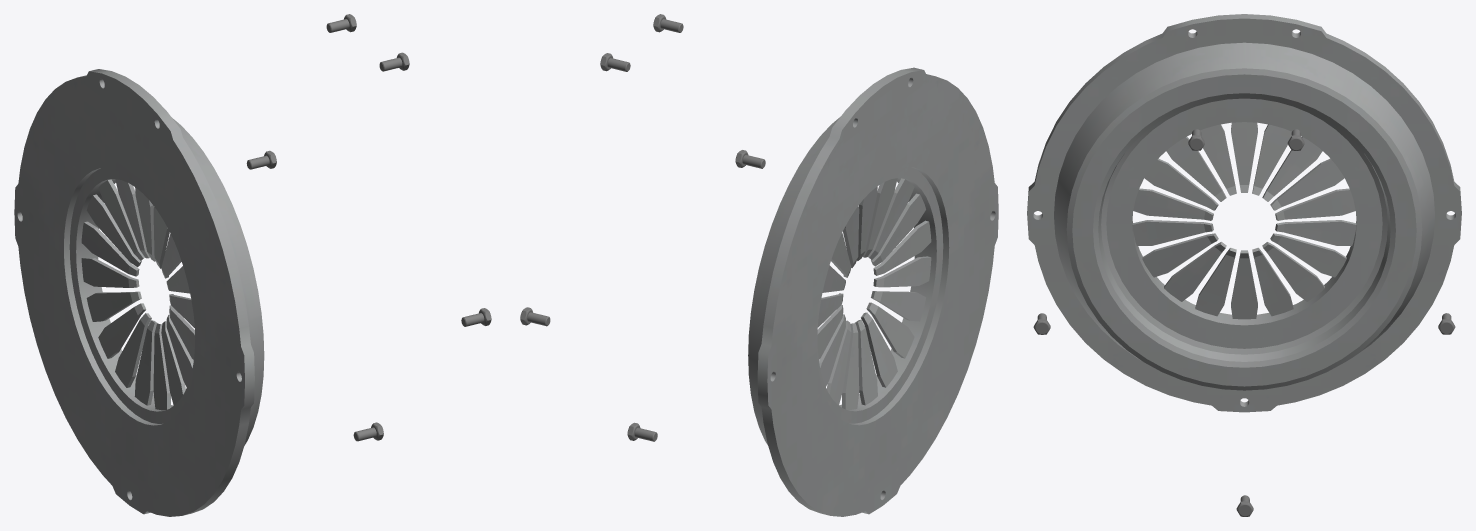
Rendered from fwdPressPlate.glb.
3 views of the same model, side by side, from view 1: azimuth 30°, elevation 25°; view 2: azimuth 150°, elevation 25°; view 3: azimuth 270°, elevation 25° (orthographic). The views are drawn at different scales.
Parts seen in each view (by area): view 1: docisk_sprzegla(0); view 2: docisk_sprzegla(0); view 3: docisk_sprzegla(0).
Boxes of the visible parts, x1,y1,x2,y2 form: docisk_sprzegla(0): (14, 69, 264, 516); docisk_sprzegla(0): (748, 67, 998, 516); docisk_sprzegla(0): (1027, 14, 1461, 412).
Size of the model in its own units: 0.00259 by 0.00413 by 0.00413.
2 materials, 1 textured.
